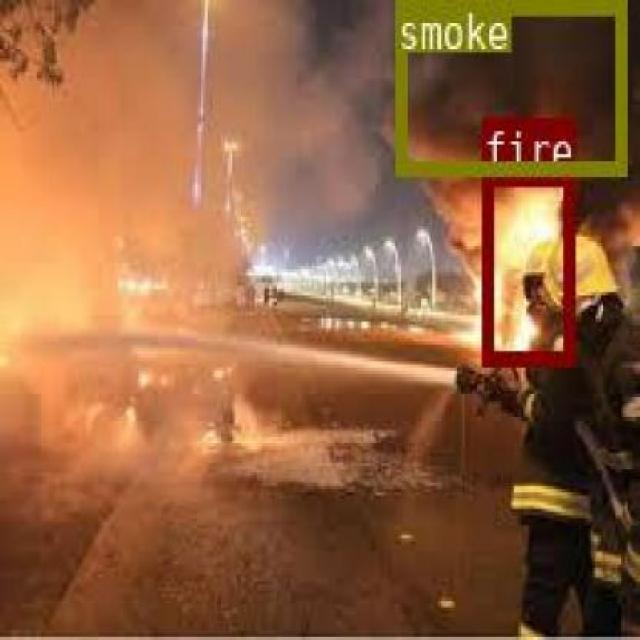Fire: (481, 170, 572, 362)
Smoke: (393, 0, 624, 171)
